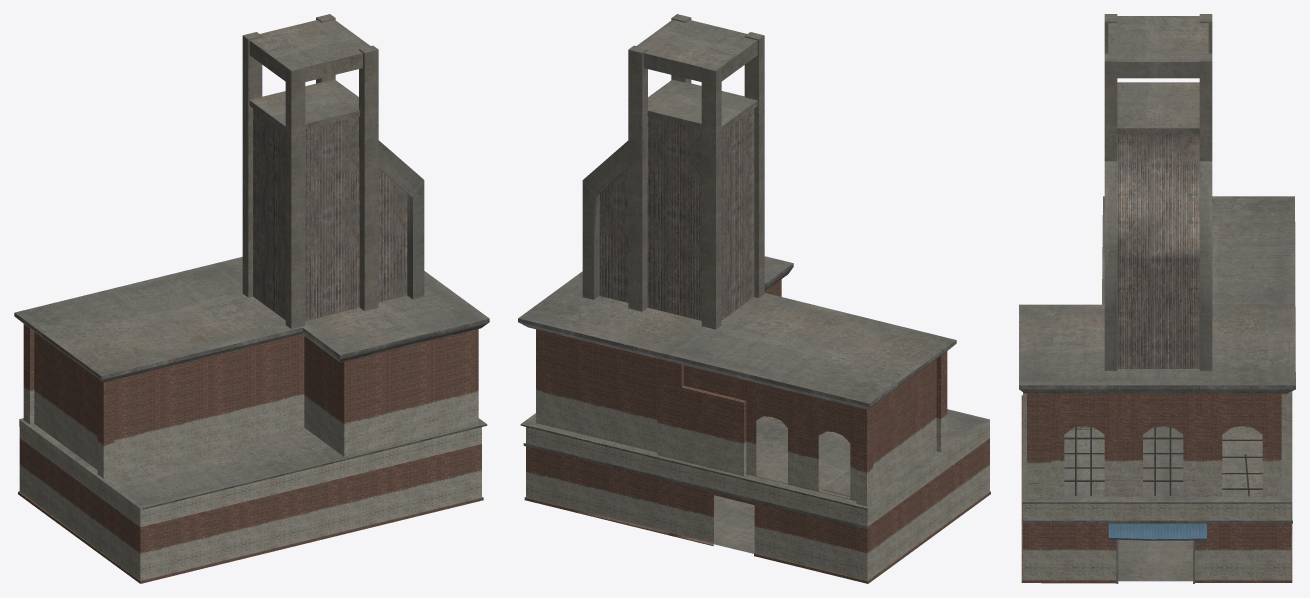
The model's file is Building_HeiygcFz05_2048_lod1.glb.
The picture shows the model from 3 angles, left to right: view 1: azimuth 30°, elevation 25°; view 2: azimuth 150°, elevation 25°; view 3: azimuth 270°, elevation 25°; orthographic projection. The views are drawn at different scales.
Visible parts, largest first — view 1: xiutz_heiygc_fz_05_lod1; view 2: xiutz_heiygc_fz_05_lod1; view 3: xiutz_heiygc_fz_05_lod1.
Part boxes in pixels (<box>): xiutz_heiygc_fz_05_lod1: <box>14,14,489,583</box>; xiutz_heiygc_fz_05_lod1: <box>518,14,990,583</box>; xiutz_heiygc_fz_05_lod1: <box>1019,14,1295,583</box>.
Size of the model in its own units: 28.27 by 32.54 by 16.8.
1 material, 1 textured.
